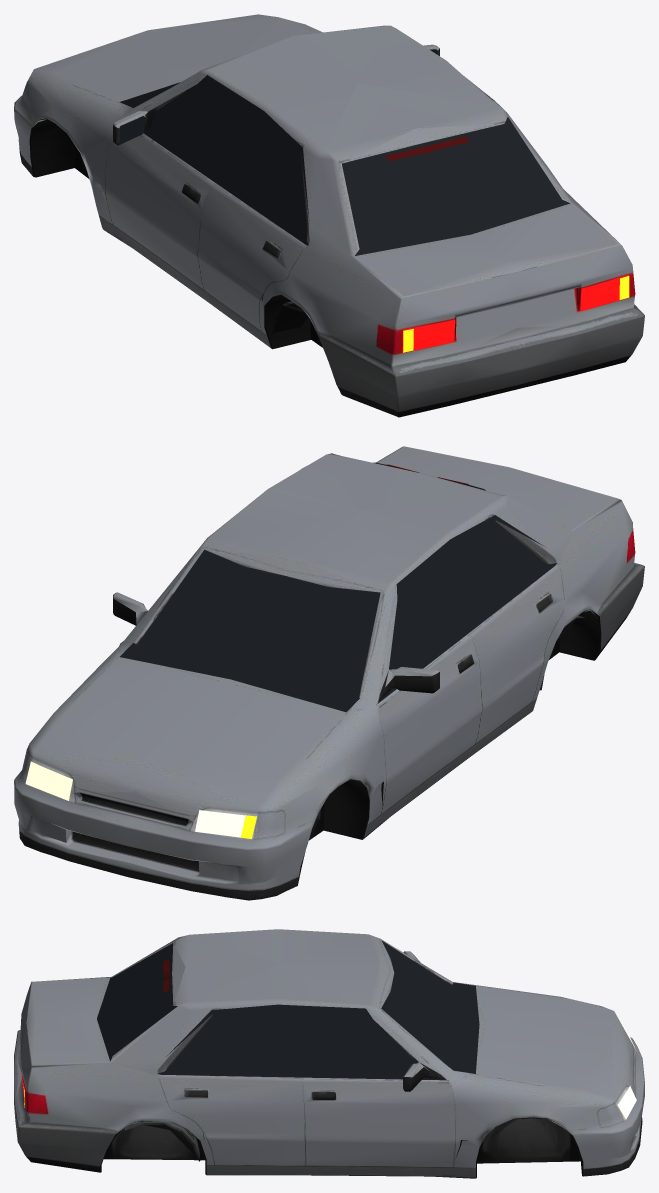
The model's file is sedan.glb.
3 views of the same model, one above another, from view 1: azimuth 30°, elevation 25°; view 2: azimuth 150°, elevation 25°; view 3: azimuth 270°, elevation 25° (orthographic). The views are drawn at different scales.
Parts seen in each view (by area): view 1: body, tail_L, tail_R, brake_C; view 2: body, head_L, head_R; view 3: body.
Part boxes in pixels (x1,y1,x2,y2): body: (14,14,644,417); tail_L: (402,319,455,352); tail_R: (580,274,628,311); brake_C: (385,136,469,161); body: (14,446,644,900); head_L: (195,810,253,837); head_R: (25,761,72,800); body: (14,929,644,1178).
Bounding box in the file's own units: 1.94 × 1.18 × 4.11.
Materials: 14 (1 with a texture image).
